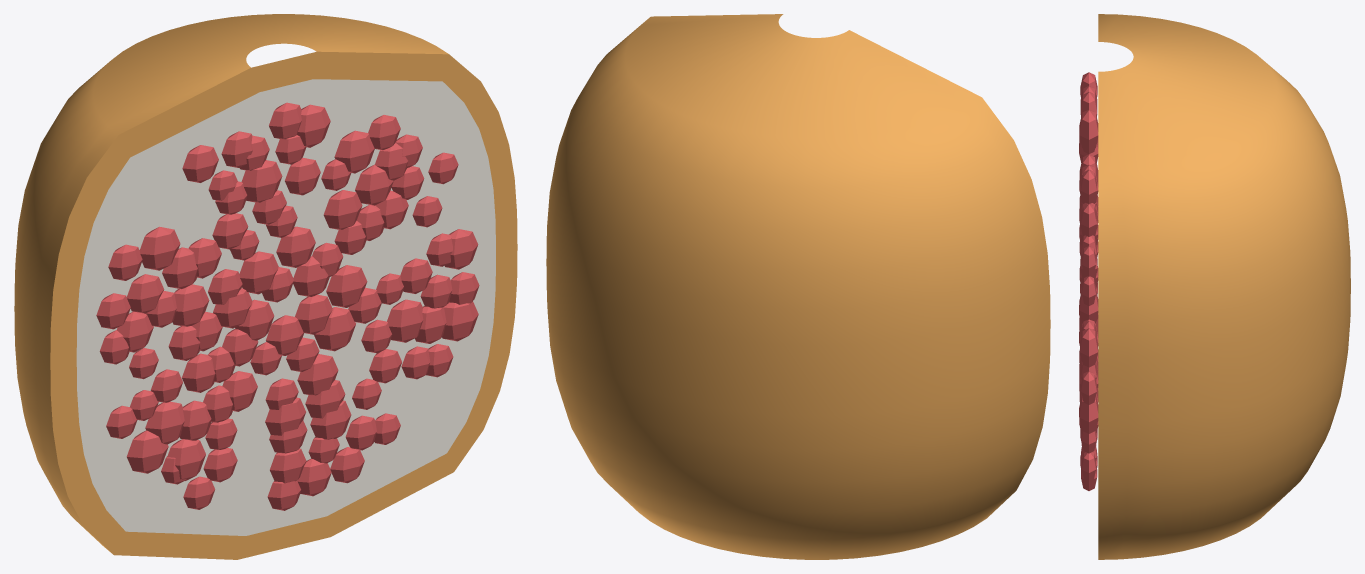
Rendered from fresh-produce-and-groceries-pomegranate-half-a9151a39__24342.glb.
3 renders of one model, left to right at view 1: azimuth 30°, elevation 25°; view 2: azimuth 150°, elevation 25°; view 3: azimuth 270°, elevation 25°, orthographic. The views are drawn at different scales.
Parts seen in each view (by area): view 1: pomegranate-half; view 2: pomegranate-half; view 3: pomegranate-half.
Part boxes in pixels (x1=…): pomegranate-half: x1=14, y1=14, x2=517, y2=559; pomegranate-half: x1=546, y1=14, x2=1050, y2=559; pomegranate-half: x1=1079, y1=14, x2=1350, y2=559.
Bounding box in the file's own units: 0.088 × 0.088 × 0.0473.
